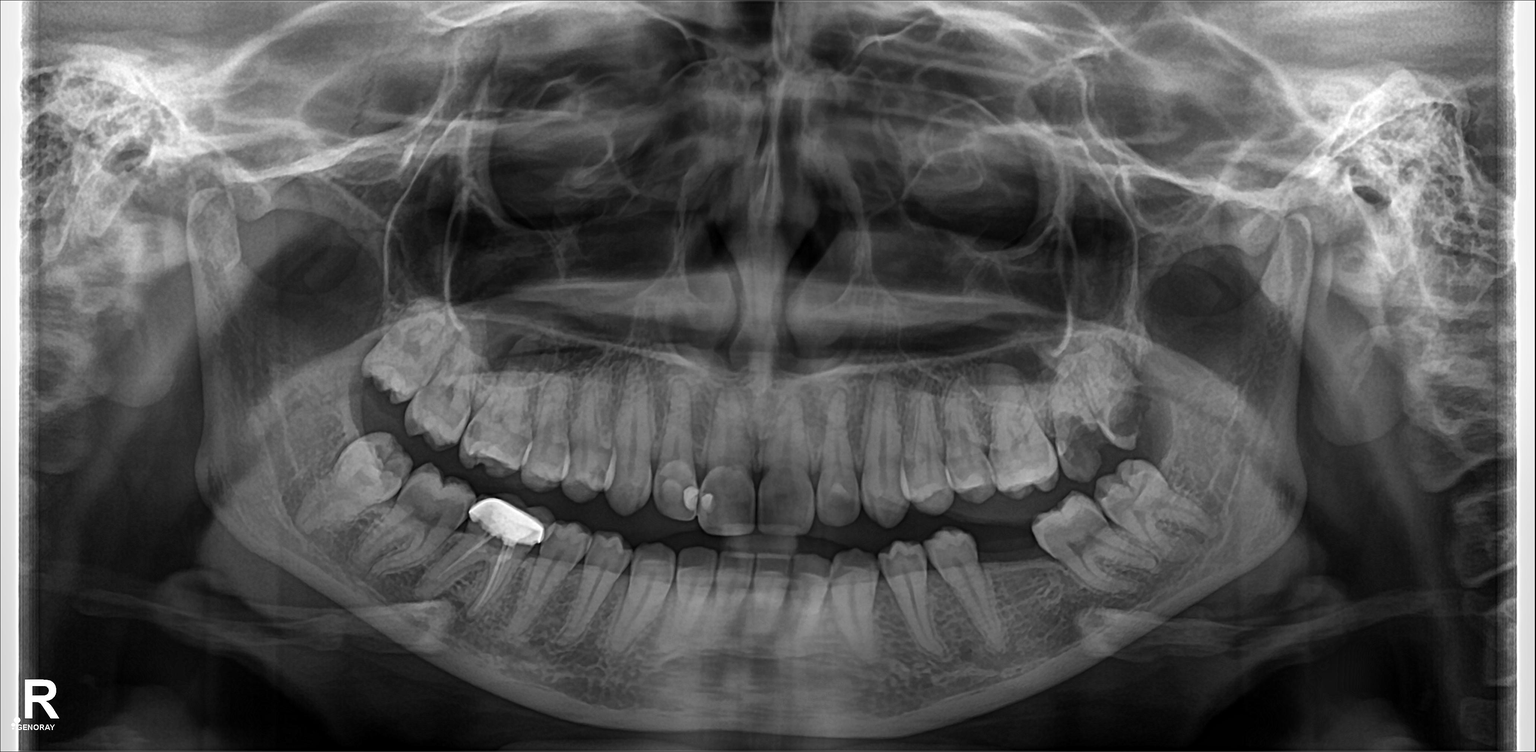Dental Caries: (1102, 391, 1153, 441), (696, 486, 754, 527), (1050, 430, 1101, 471)
Endodontically Treated Tooth: (457, 490, 524, 620)
Impacted Third Molar: (1088, 463, 1210, 536), (315, 439, 408, 521), (354, 316, 444, 387)
Missing Tooth: (994, 523, 1034, 630)
